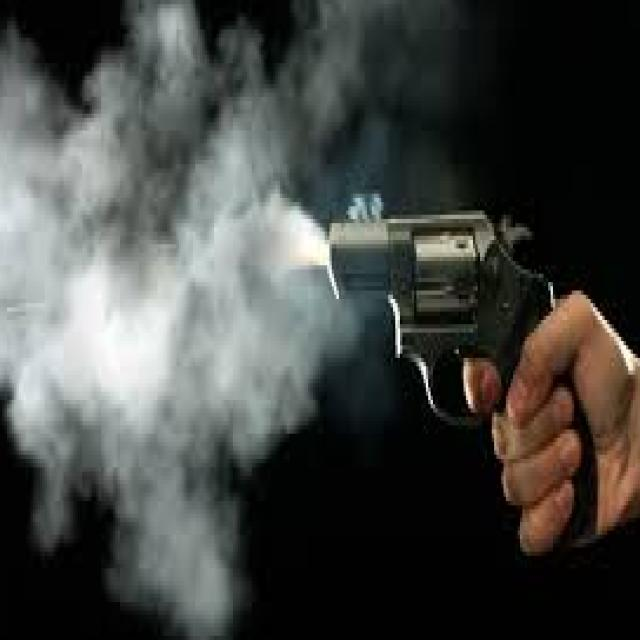gun: (316, 147, 608, 564)
